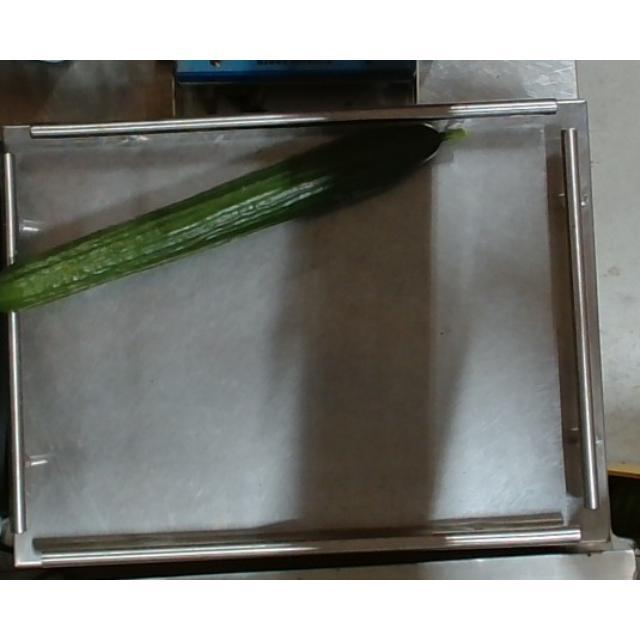cucumber: (0, 126, 464, 324)
